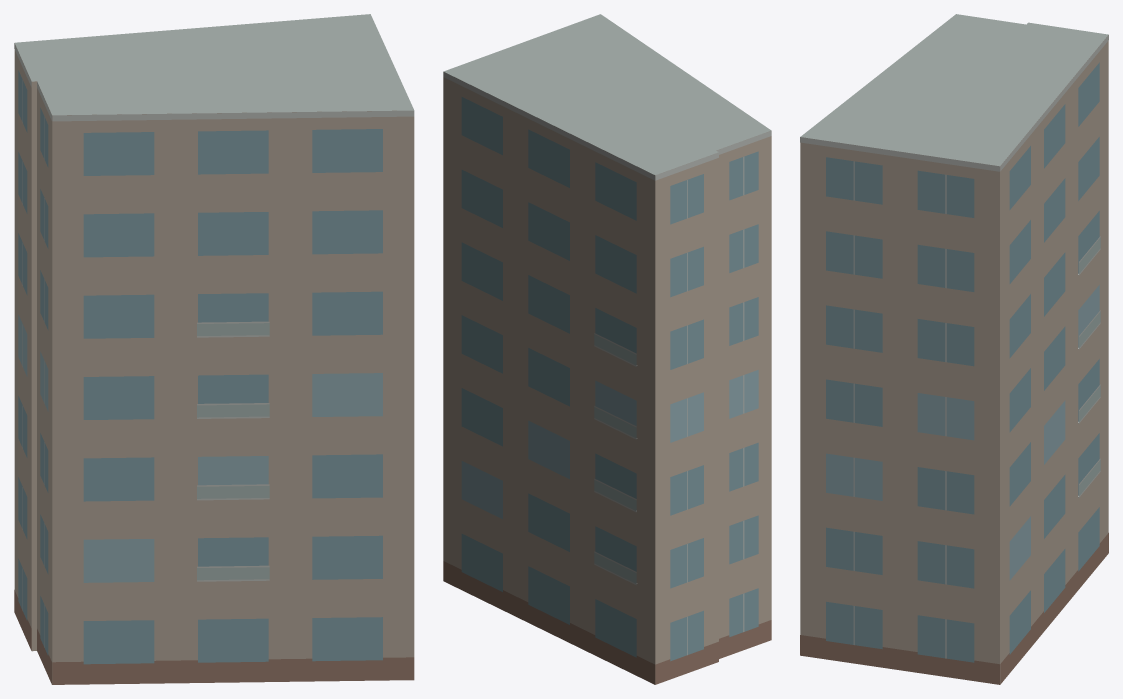
File: survey-upis-32528347.glb
3 renders of one model, left to right at view 1: azimuth 30°, elevation 25°; view 2: azimuth 150°, elevation 25°; view 3: azimuth 270°, elevation 25°, orthographic. The views are drawn at different scales.
Parts seen in each view (by area): view 1: survey-upis-32528347.tmp; view 2: survey-upis-32528347.tmp; view 3: survey-upis-32528347.tmp.
Part boxes in pixels (x1=…): survey-upis-32528347.tmp: x1=14, y1=14, x2=414, y2=684; survey-upis-32528347.tmp: x1=443, y1=14, x2=771, y2=684; survey-upis-32528347.tmp: x1=800, y1=14, x2=1108, y2=684.
Bounding box in the file's own units: 14.37 × 22.8 × 12.31.
